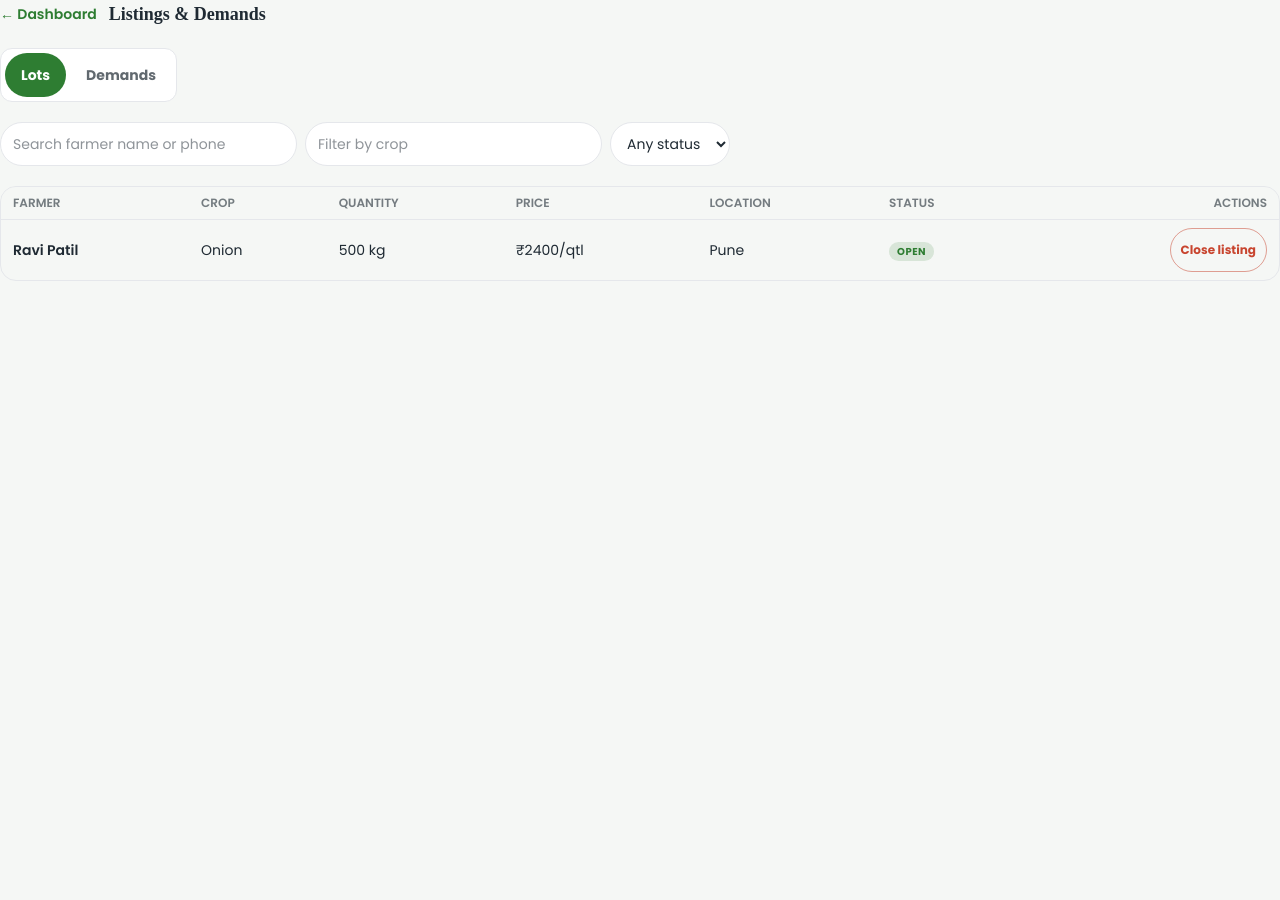
Test: AdminListingsPage close-lot reason modal › opens an in-page modal instead of window.prompt when closing a lot
Click the button "Close listing": click(1218, 250) [1170,228,1267,272]
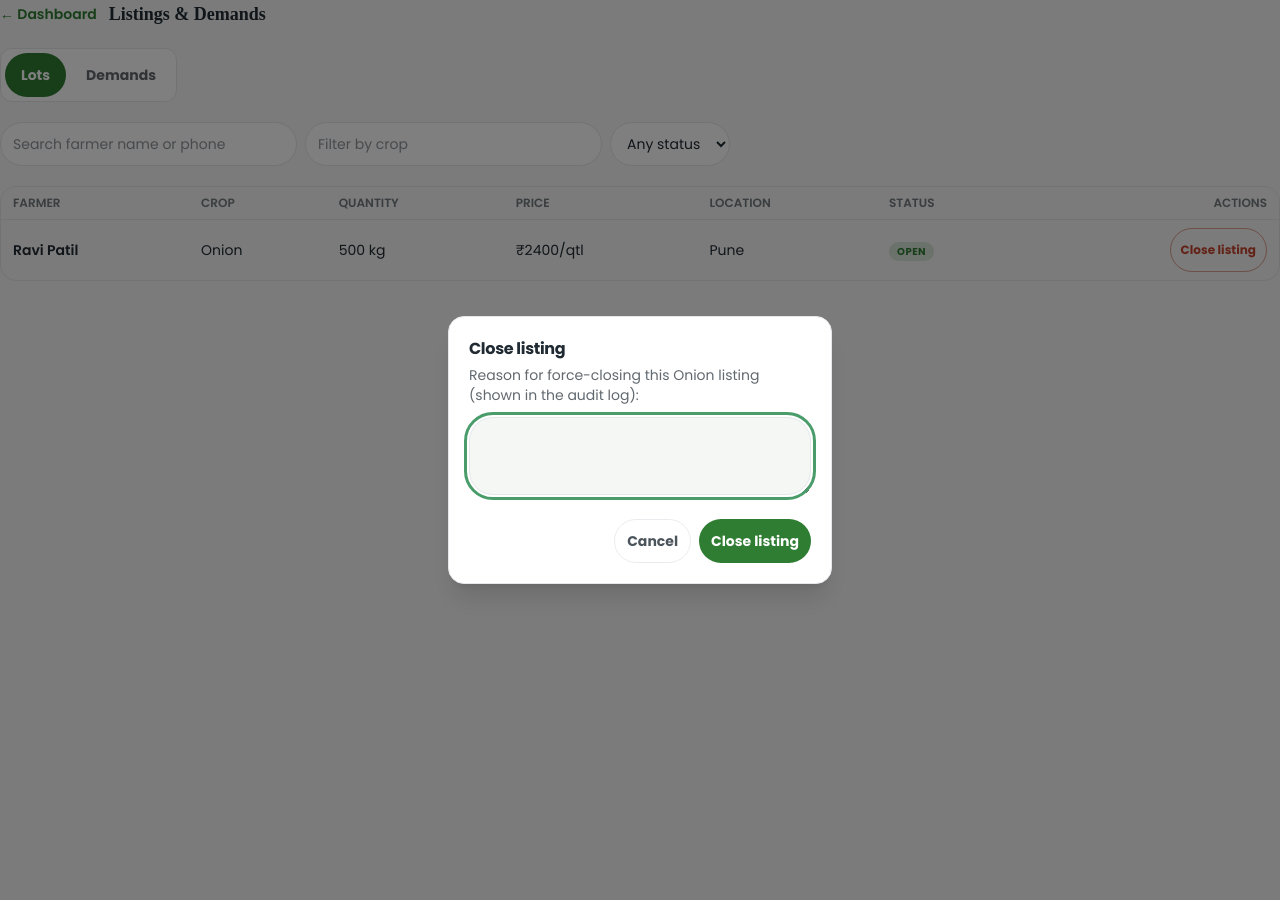
Expected: the dialog is shown
